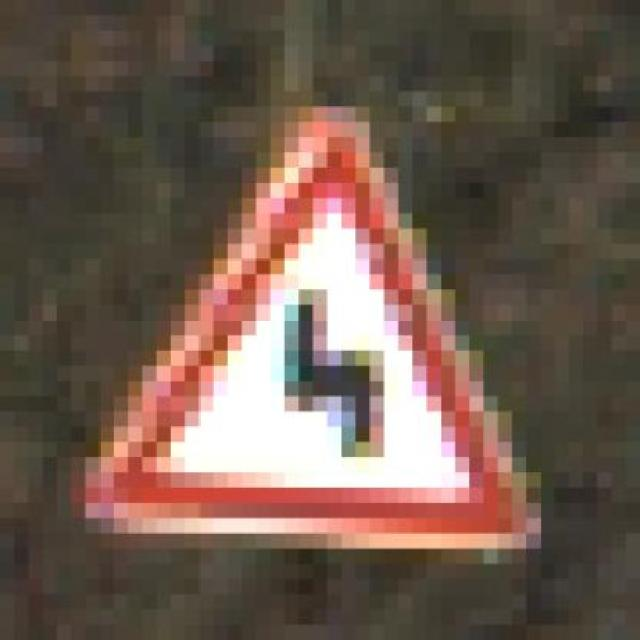Left Zig Zag Traffic: (58, 85, 584, 557)
